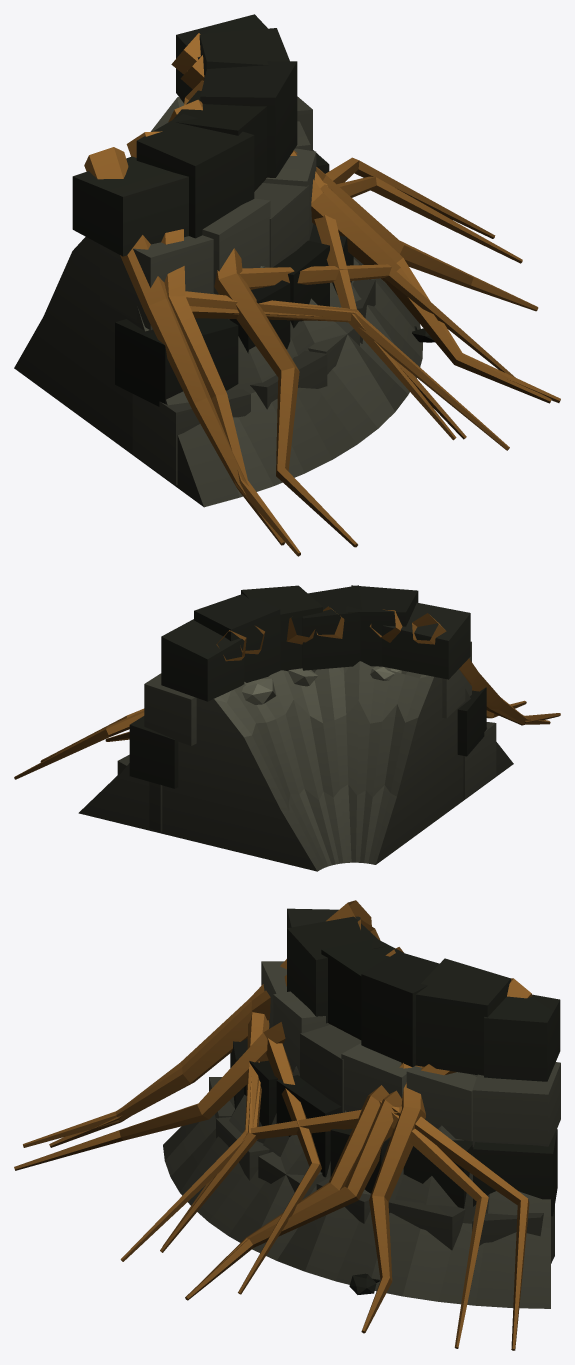
The model's file is cliff-gleba-outer.glb.
The picture shows the model from 3 angles, top to bottom: view 1: azimuth 30°, elevation 25°; view 2: azimuth 150°, elevation 25°; view 3: azimuth 270°, elevation 25°; orthographic projection. The views are drawn at different scales.
Visible parts, largest first — view 1: cliff-gleba-outer; view 2: cliff-gleba-outer; view 3: cliff-gleba-outer.
Part boxes in pixels (bbox=[...]): cliff-gleba-outer: bbox=[14, 14, 560, 556]; cliff-gleba-outer: bbox=[14, 585, 560, 871]; cliff-gleba-outer: bbox=[14, 900, 560, 1350].
Size of the model in its own units: 5.03 by 2.73 by 5.28.
